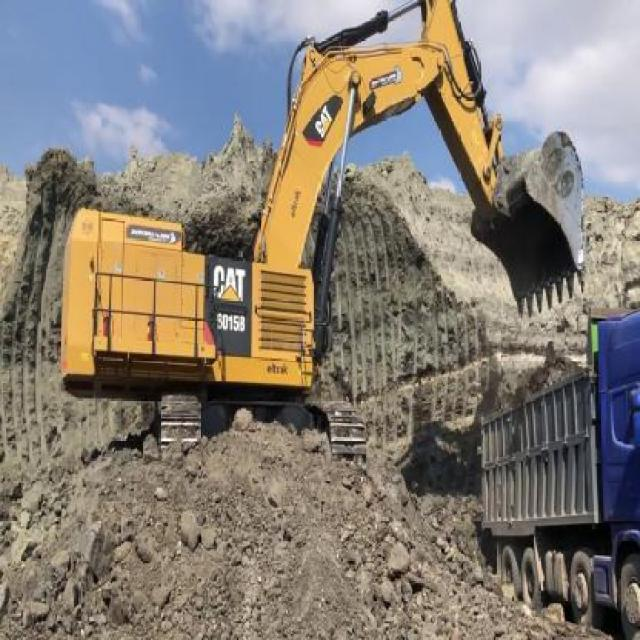Dump Truck: (481, 303, 639, 631)
Excavator: (62, 0, 586, 466)
